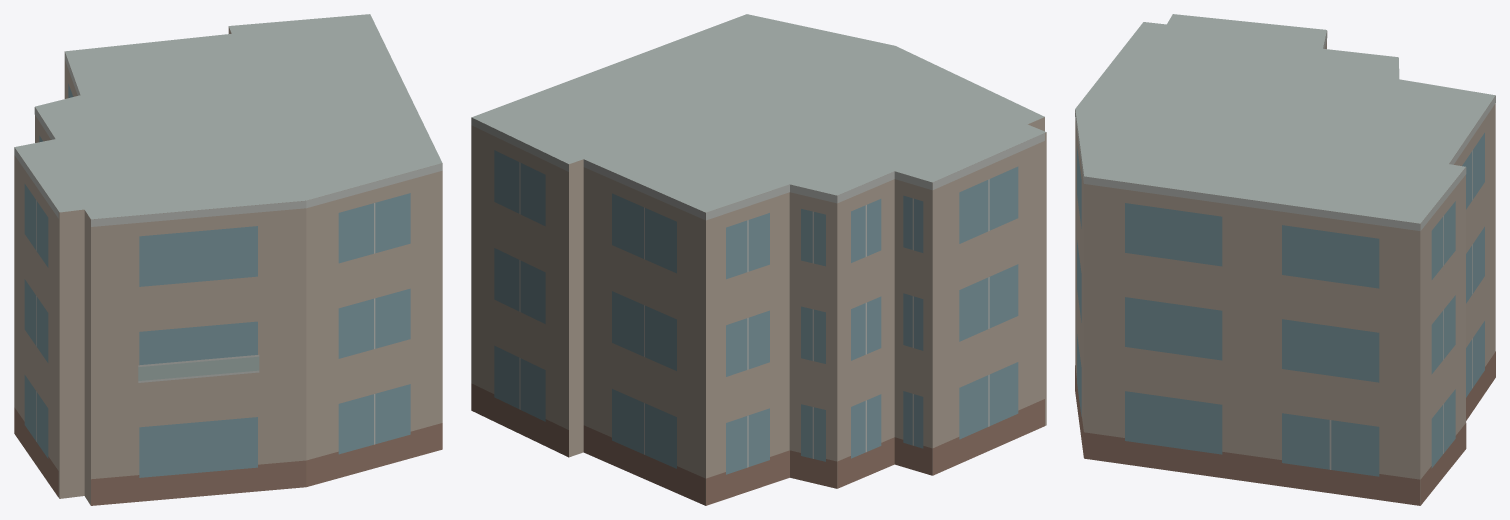
The model's file is survey-upis-32585395.glb.
The picture shows the model from 3 angles, left to right: view 1: azimuth 30°, elevation 25°; view 2: azimuth 150°, elevation 25°; view 3: azimuth 270°, elevation 25°; orthographic projection. The views are drawn at different scales.
Visible parts, largest first — view 1: survey-upis-32585395.tmp; view 2: survey-upis-32585395.tmp; view 3: survey-upis-32585395.tmp.
Part boxes in pixels (<box>): survey-upis-32585395.tmp: <box>14,14,442,505</box>; survey-upis-32585395.tmp: <box>471,14,1046,505</box>; survey-upis-32585395.tmp: <box>1075,14,1495,505</box>.
Size of the model in its own units: 14.59 by 9.15 by 12.37.
